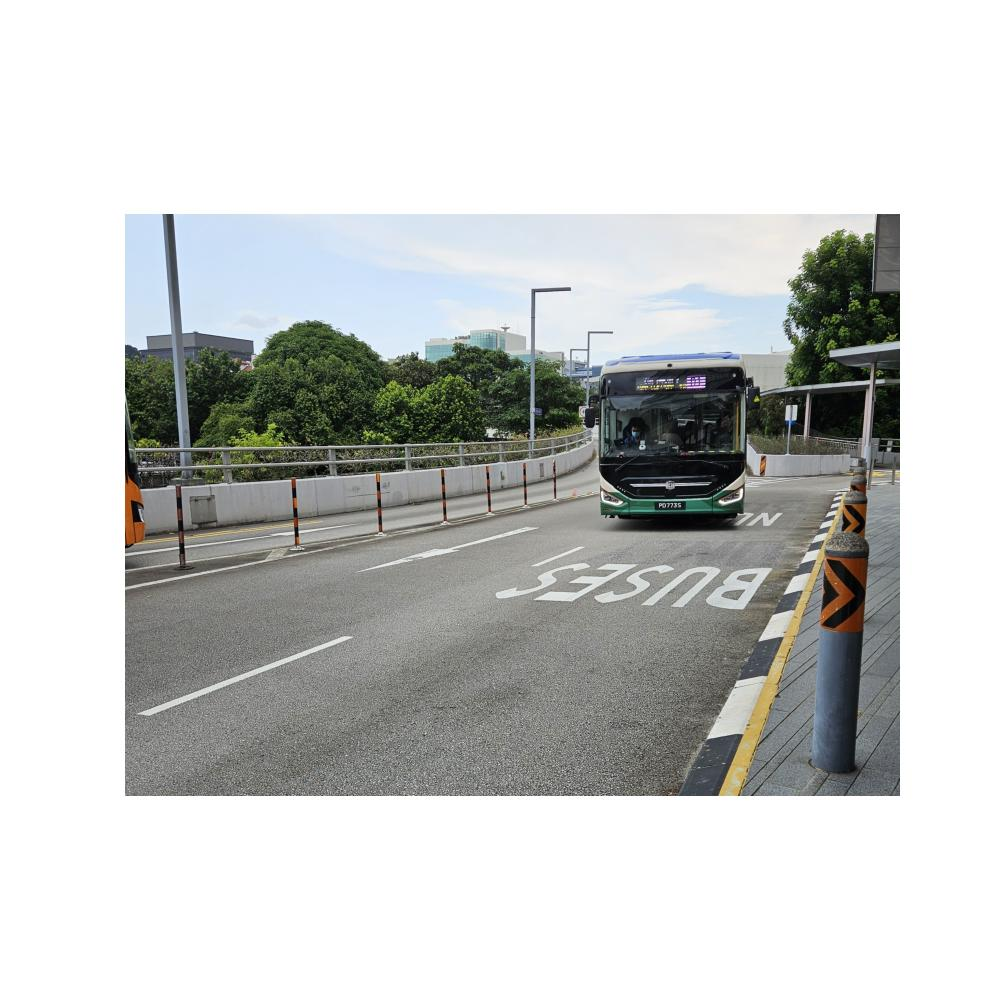bus: (580, 351, 759, 523)
